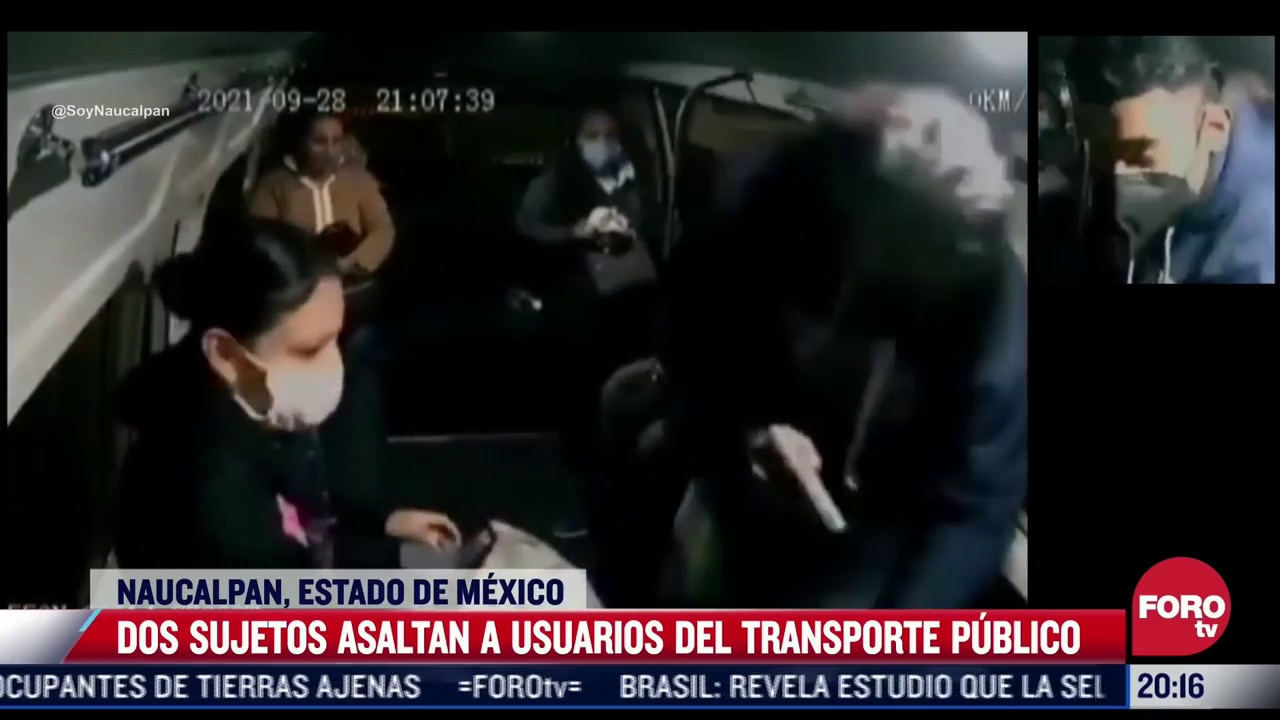pistol: (761, 423, 852, 535)
